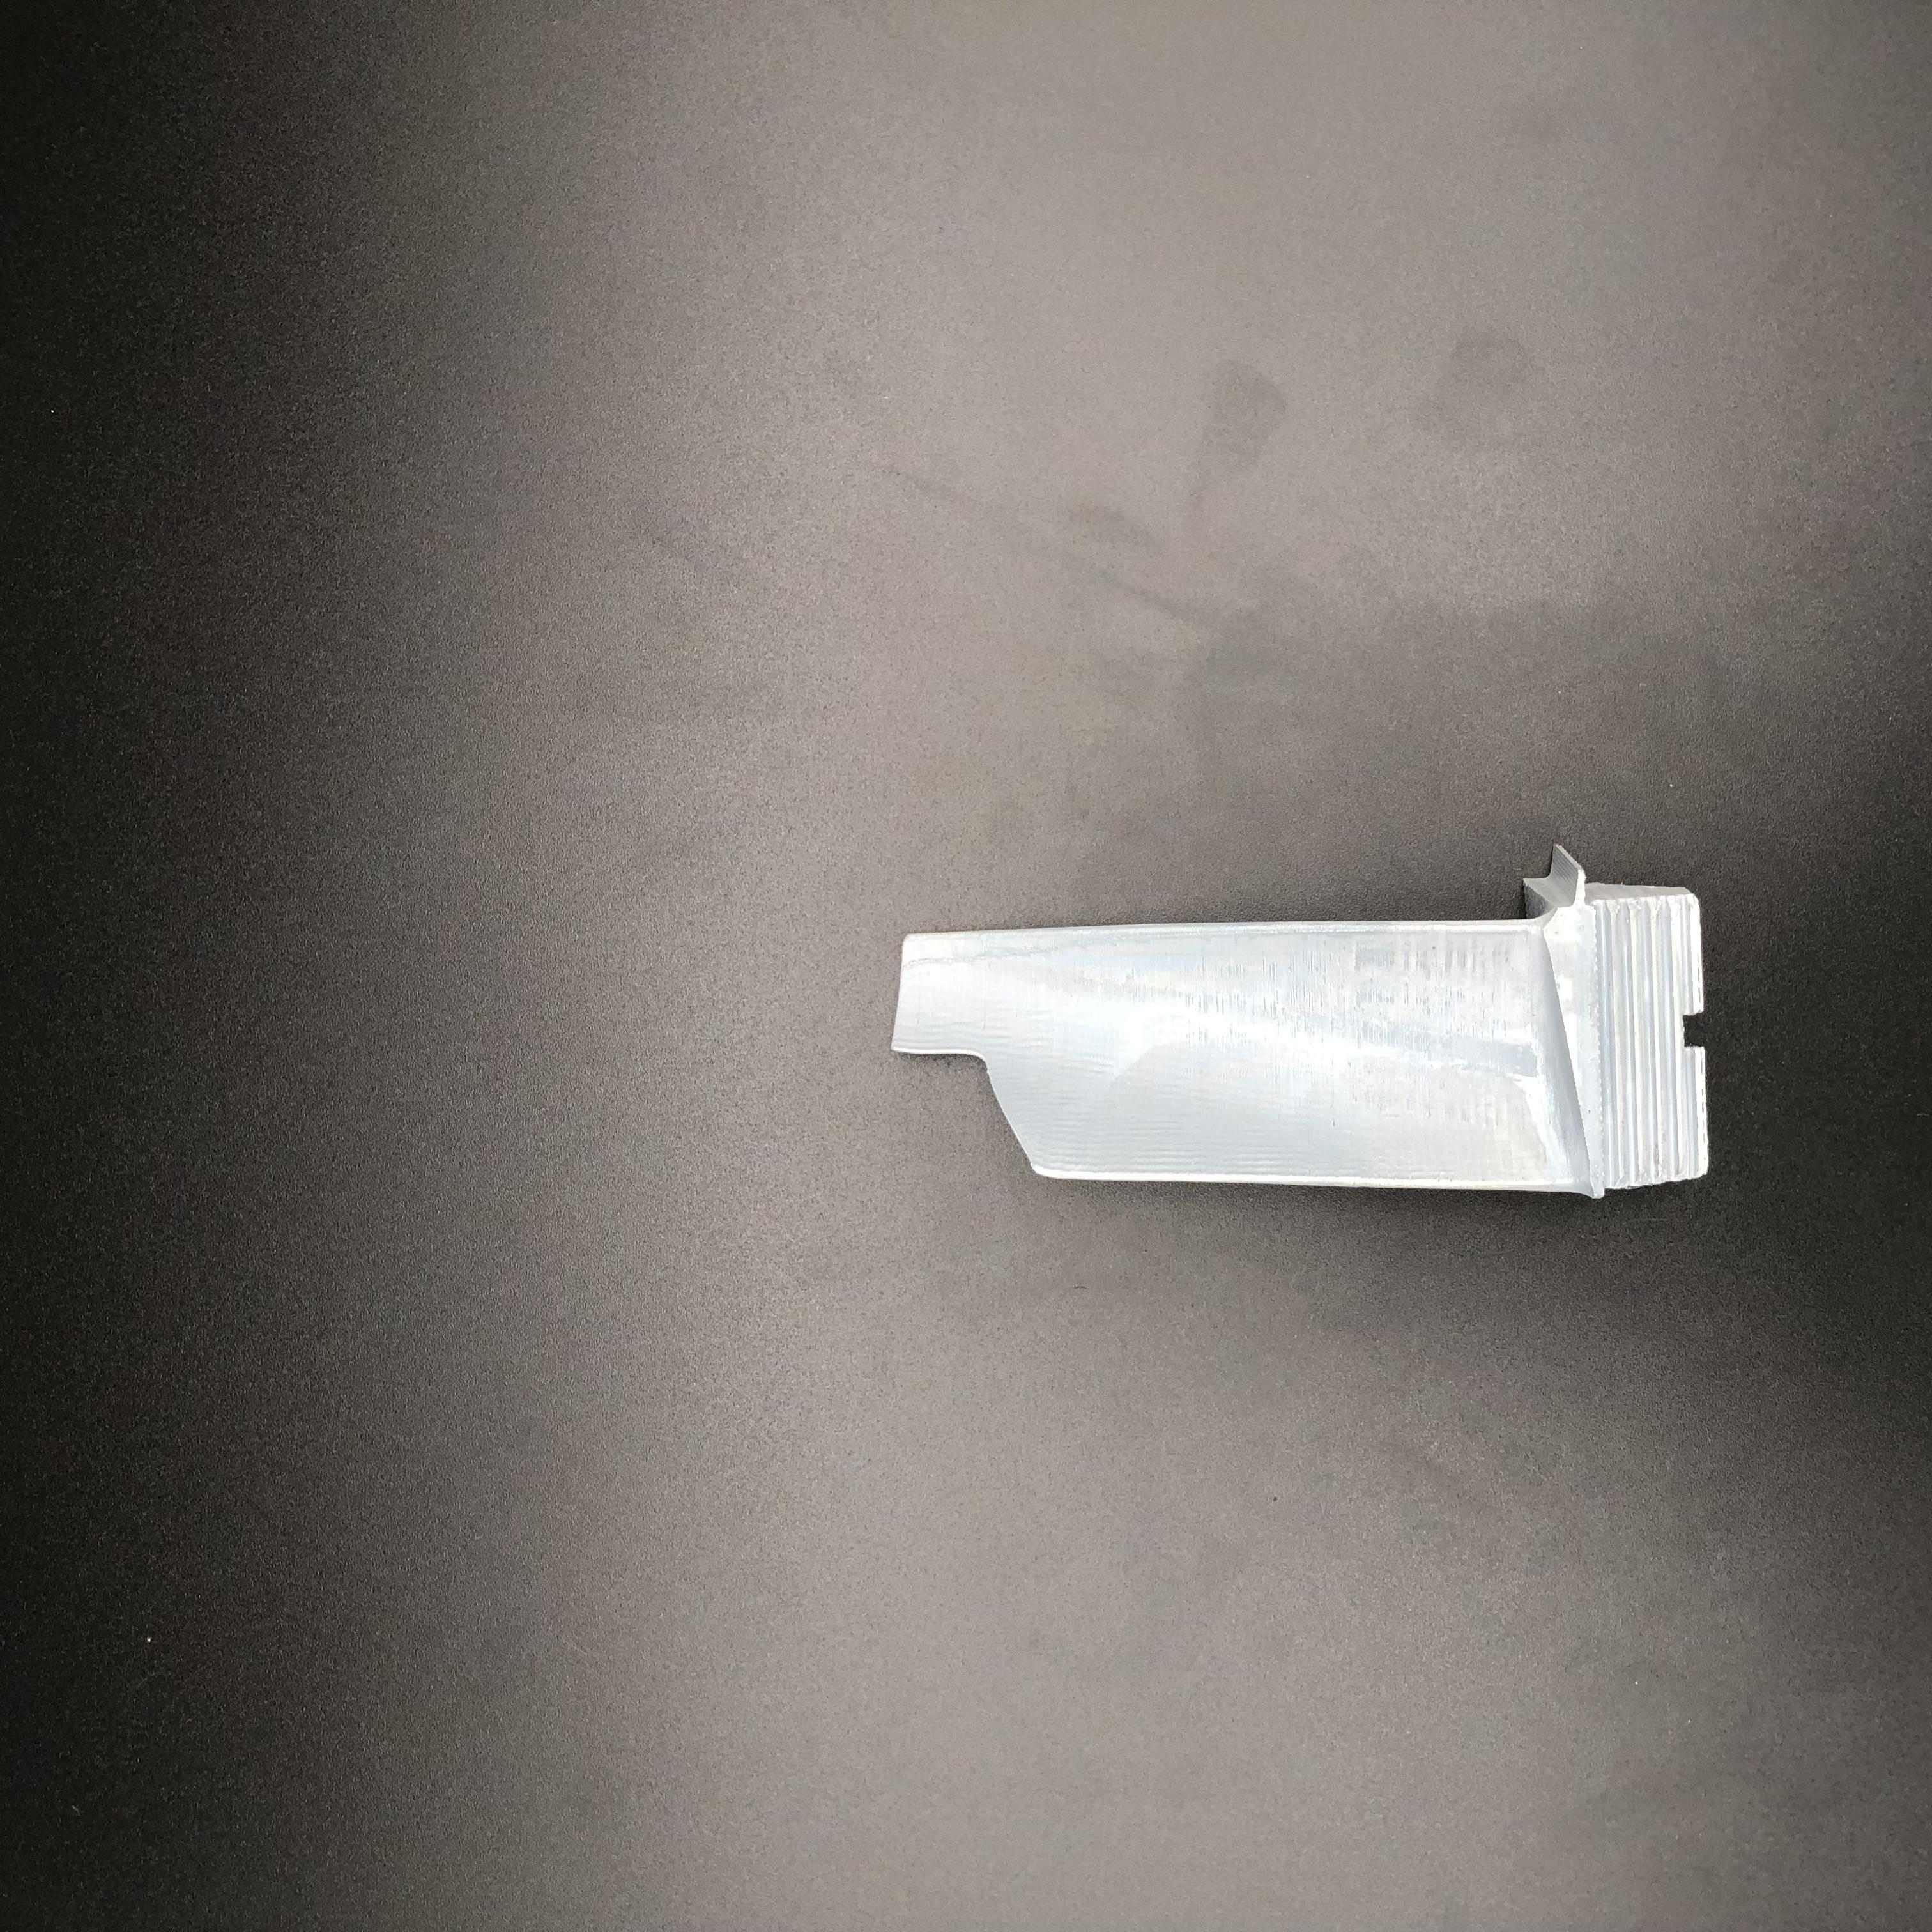fracture: (881, 1042, 1085, 1175)
